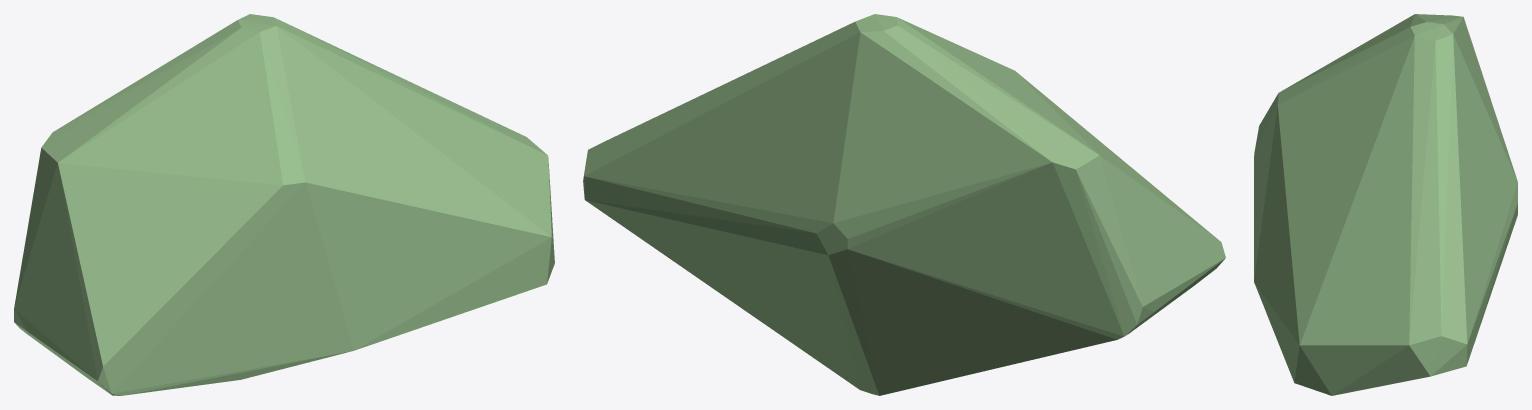
The model's file is serviceTool_separator_ballJointClamp_a01.glb.
3 renders of one model, left to right at view 1: azimuth 30°, elevation 25°; view 2: azimuth 150°, elevation 25°; view 3: azimuth 270°, elevation 25°, orthographic. The views are drawn at different scales.
Parts seen in each view (by area): view 1: geometry_0; view 2: geometry_0; view 3: geometry_0.
Part boxes in pixels (x1=…): geometry_0: x1=14, y1=14, x2=554, y2=395; geometry_0: x1=583, y1=14, x2=1225, y2=395; geometry_0: x1=1254, y1=14, x2=1517, y2=395.
Size of the model in its own units: 0.4778 by 0.3014 by 0.2136.
